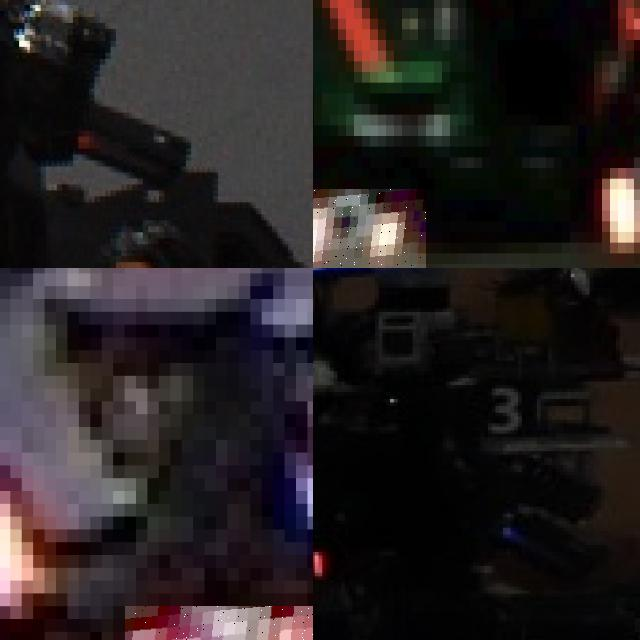R3: (124, 606, 313, 640)
Rs: (313, 189, 426, 268), (594, 136, 640, 242)
